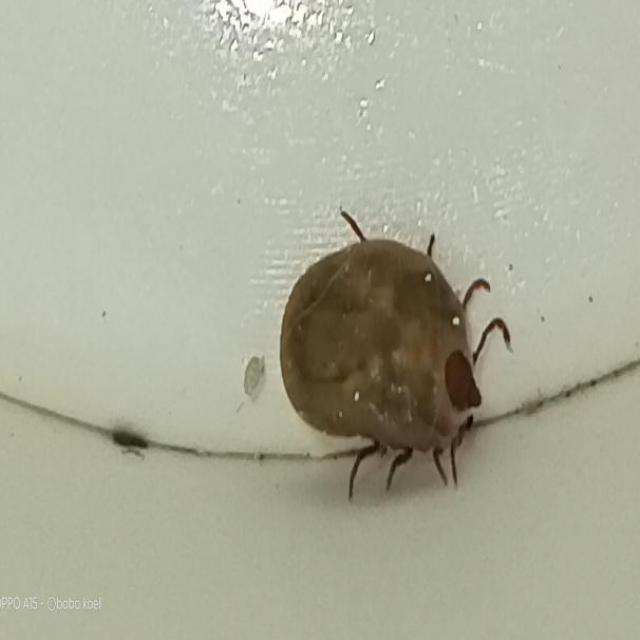Rhipicephalus Sanguineus-F-Fed: (280, 210, 515, 503)
